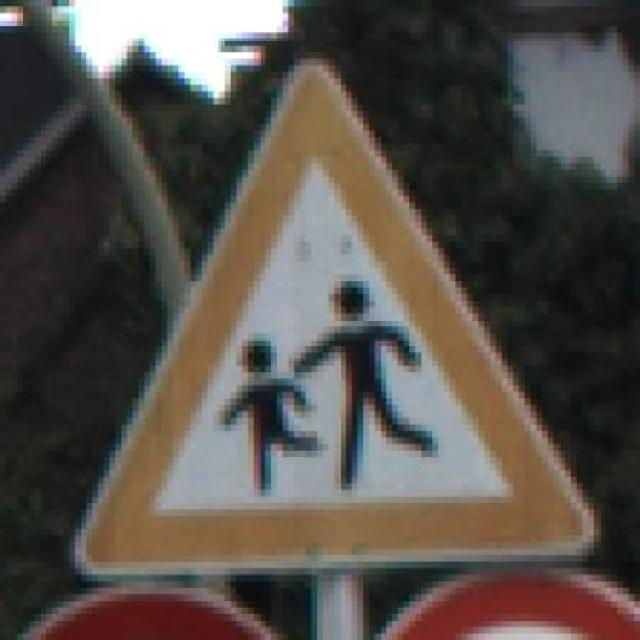Beware of children: (69, 46, 617, 582)
